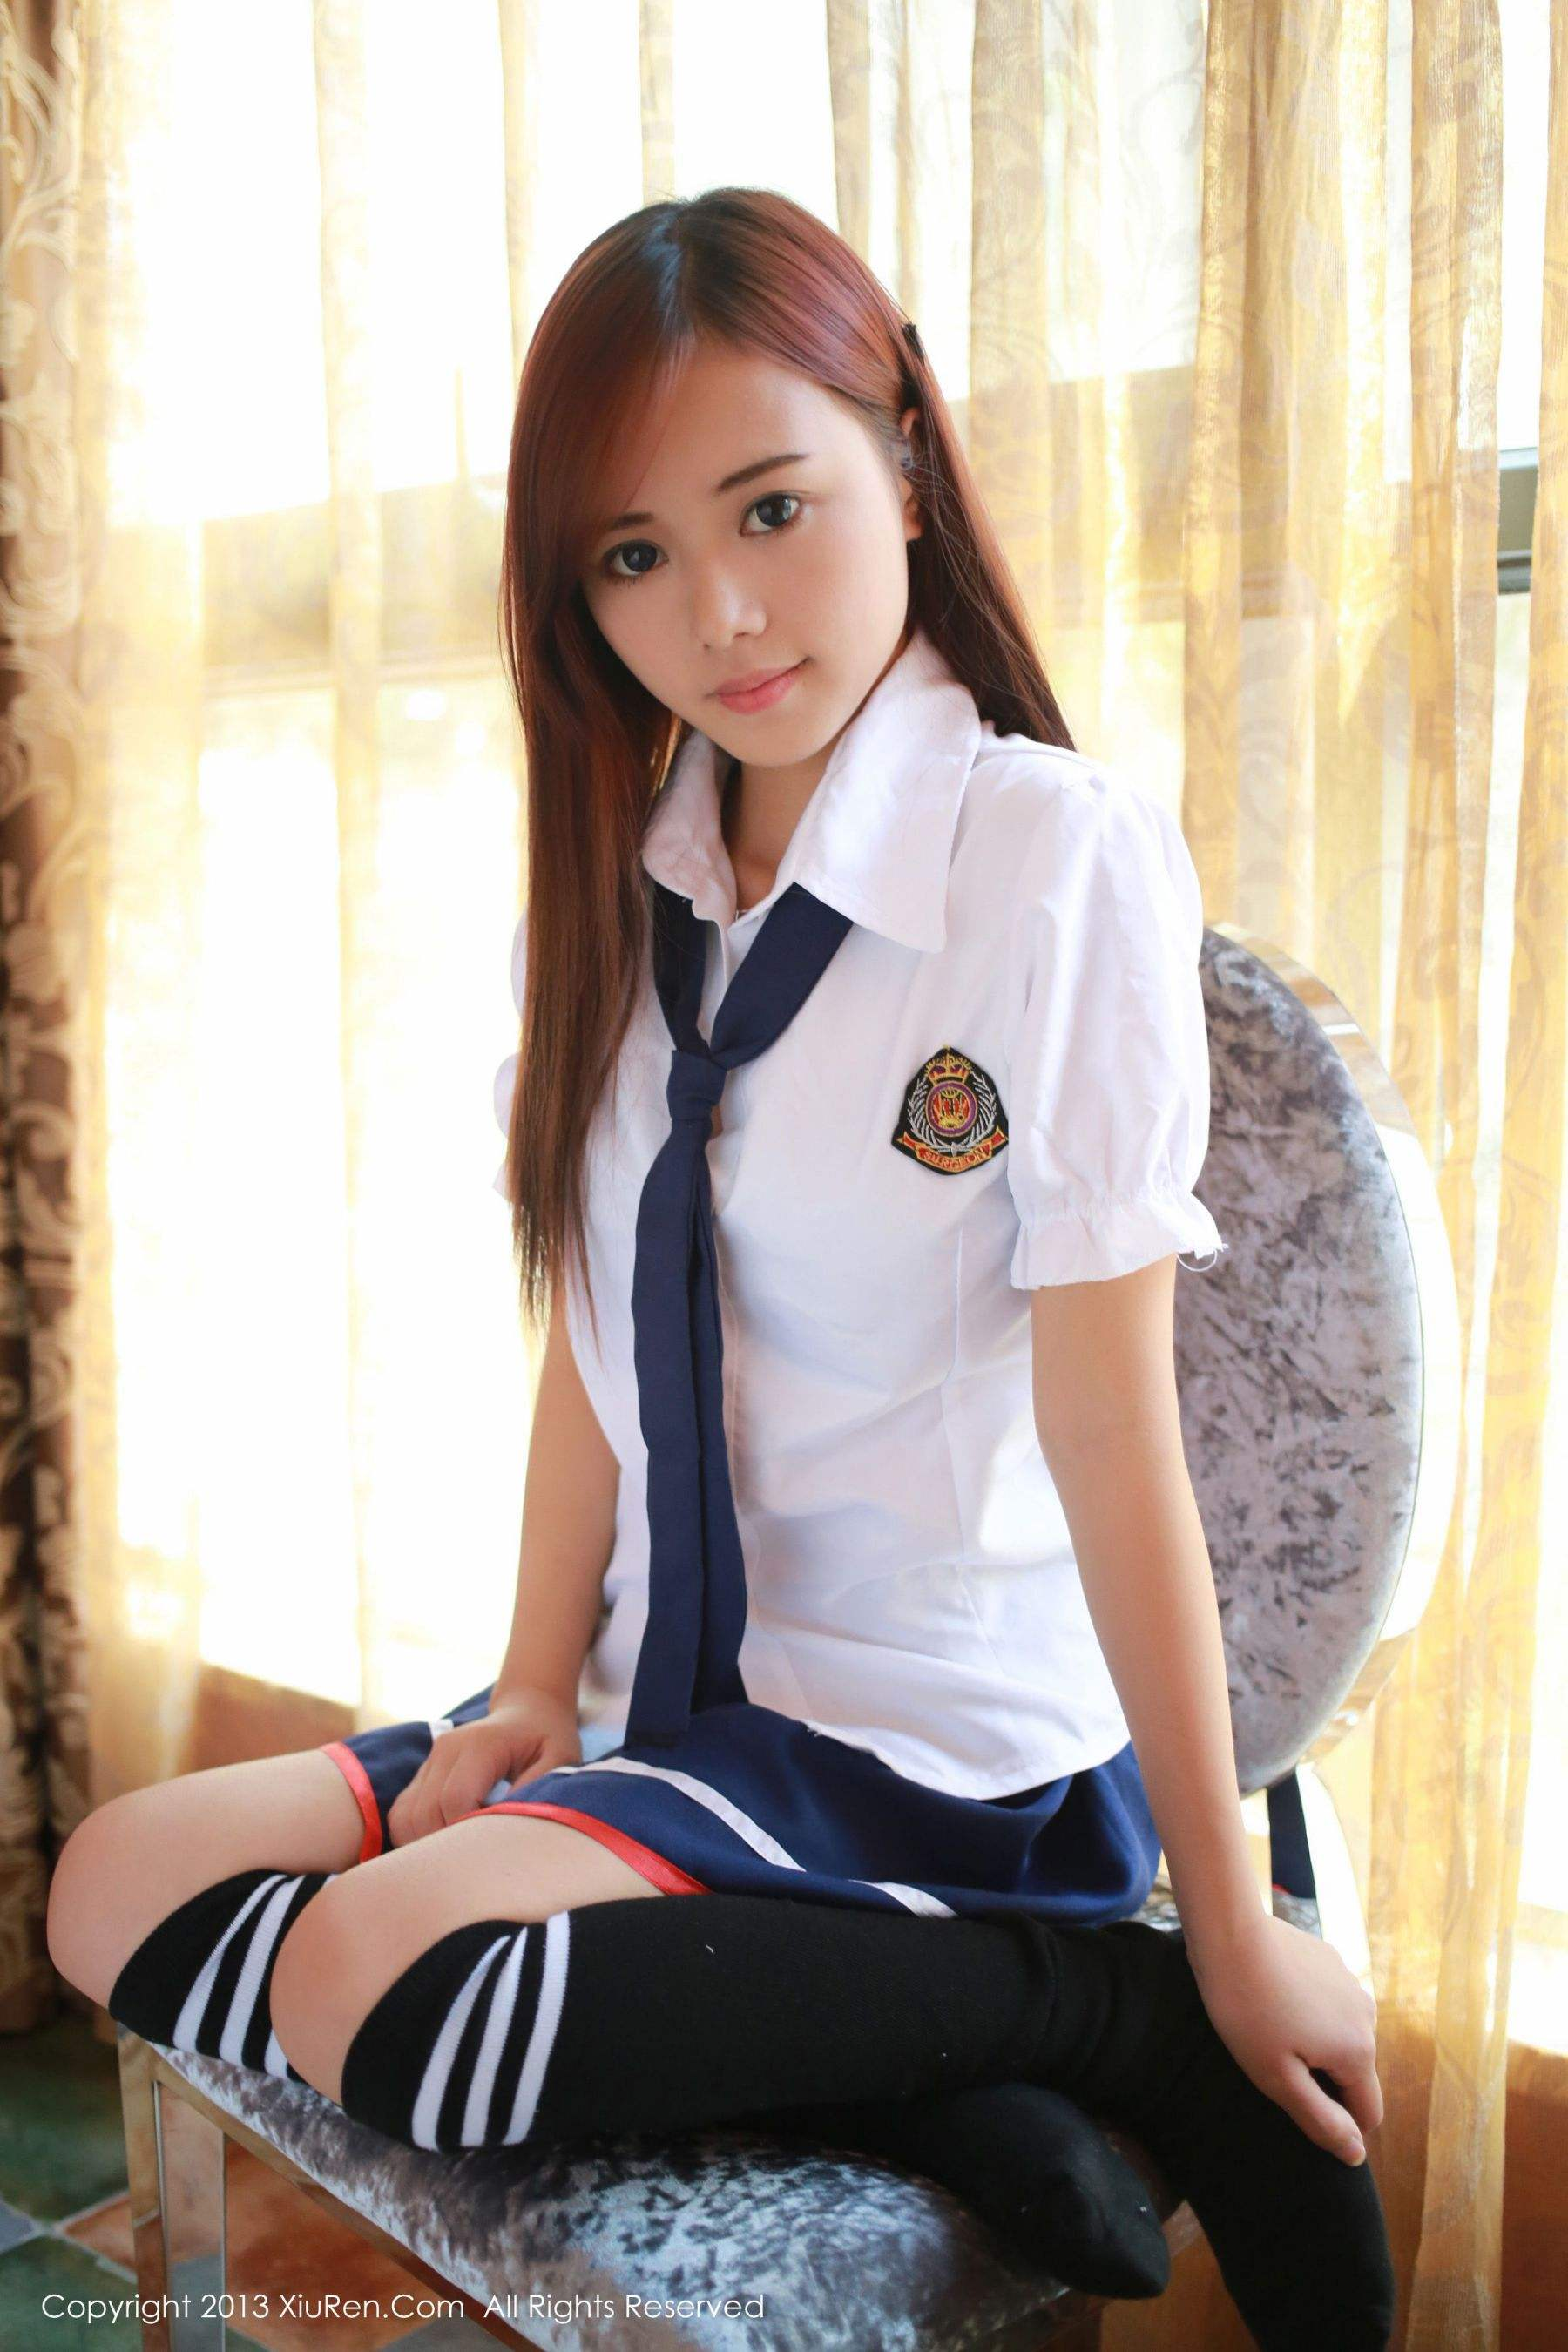person: (406, 143, 1024, 840)
